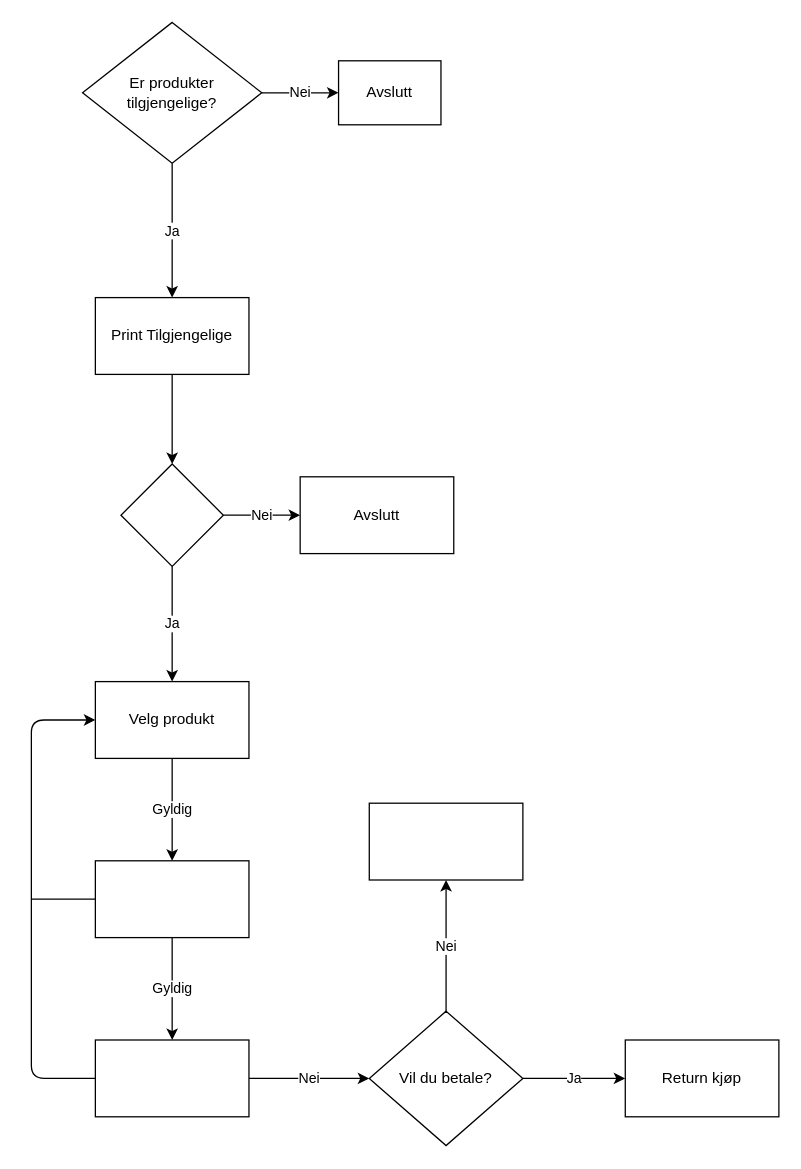
The diagram is 801 pixels wide and 1169 high, and some of its shapes have lost their labels. The centre of each missing label's shape, as x and y in pixels:
"Noe mer" belongs at pixel 171 1078.
"Return None" belongs at pixel 445 841.
"Velg mengde" belongs at pixel 171 899.
"Vil du kjøpe noe?" belongs at pixel 171 514.
